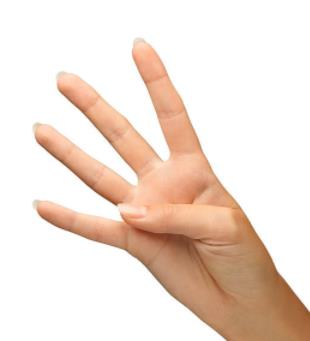right: (27, 33, 269, 315)
